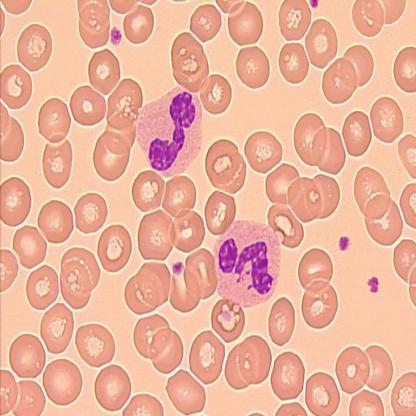Segmented neutrophil: (134, 83, 204, 180), (211, 215, 282, 310)
